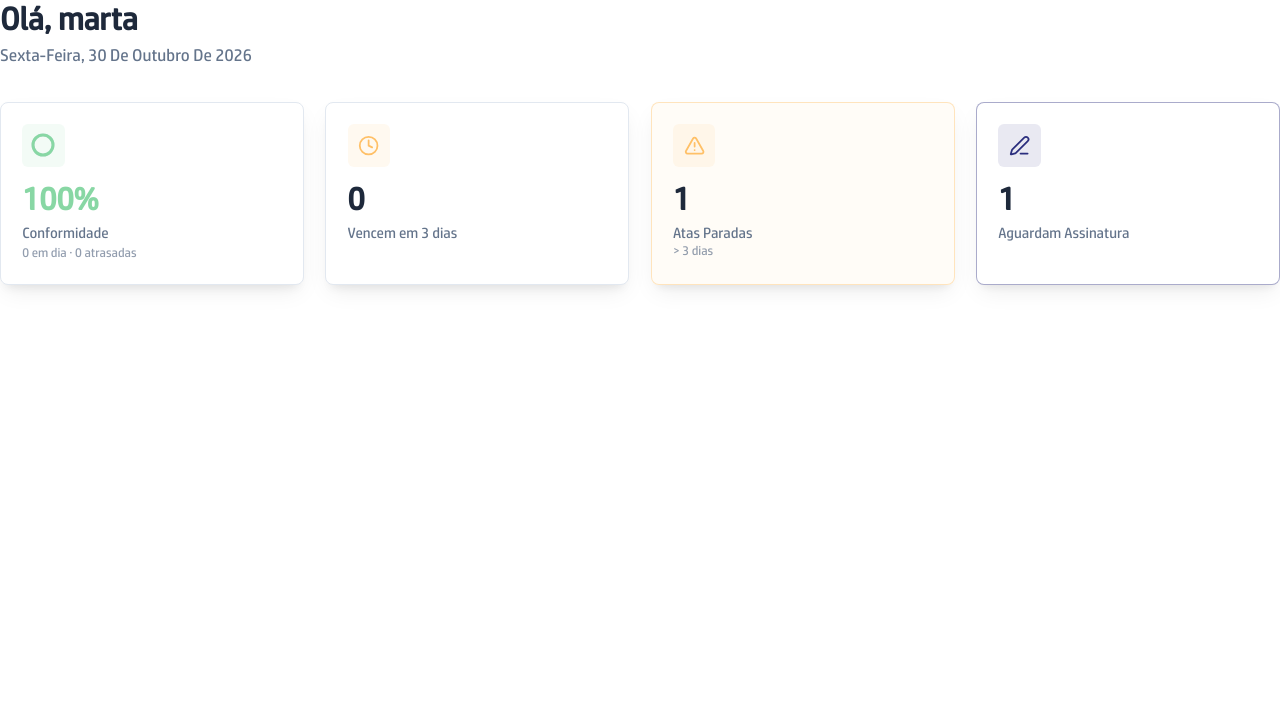
Scenario: card Atas Paradas › abre o modal com só a ata parada, e não a recente
Check: the 1st text "1" is shown, box [673,180,690,216]
Click the element with id "atas-paradas": (803, 193) [651,102,955,285]
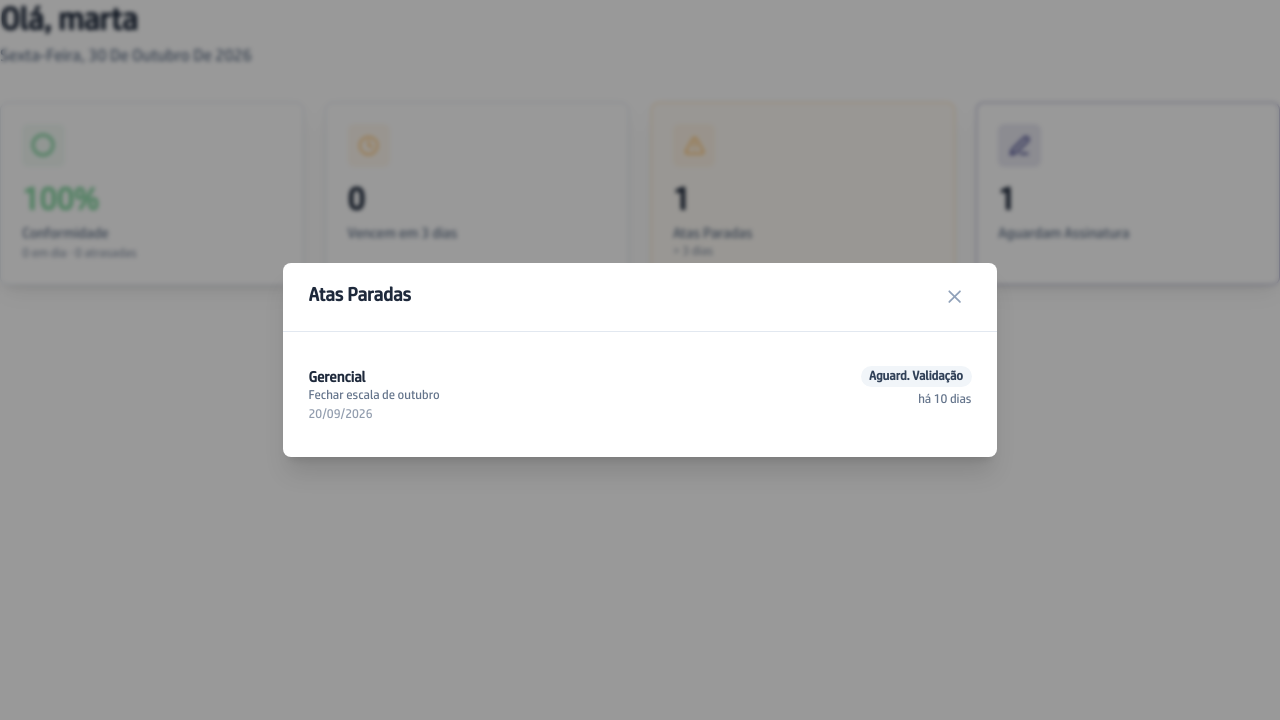
Check: the text "há 10 dias" is shown, box [918,391,972,408]
